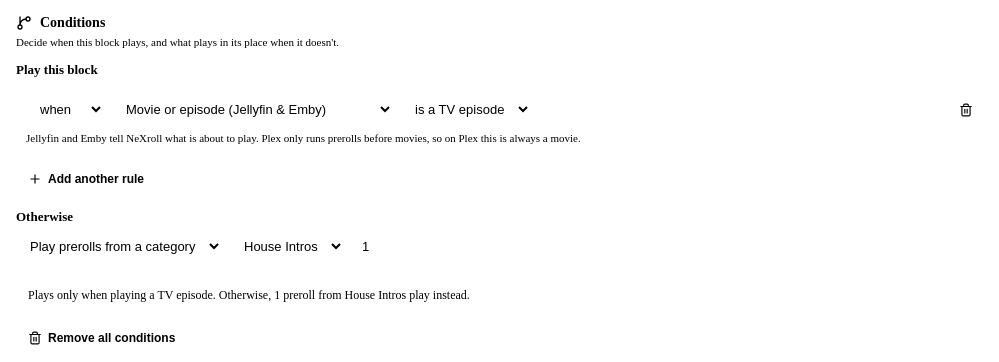
it: BlockConditionEditor › removing the last rule clears the condition and its alternative
Click the button named "remove rule". click: click(966, 110)
box: [950,96,982,124]
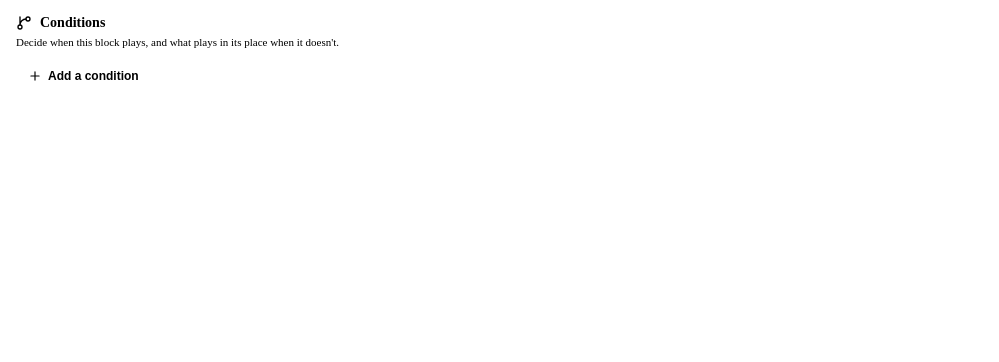
Expected: the button "Add a condition" is shown, [16,62,151,90]
